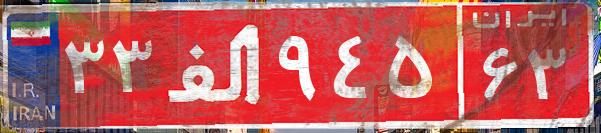3: (57, 26, 110, 107), (110, 28, 158, 105), (525, 38, 570, 115)
4: (330, 28, 385, 110)
5: (385, 28, 445, 110)
6: (475, 38, 525, 113)
9: (273, 28, 330, 110)
الف: (158, 15, 273, 115)
